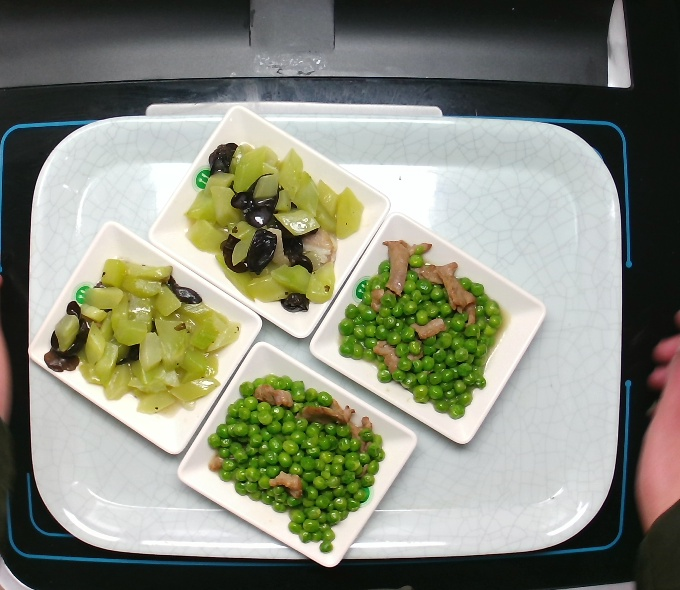wcq-CanDouRouSi: (206, 363, 394, 555), (333, 232, 506, 429)
wcq-WoSunKuai: (39, 250, 243, 420), (179, 138, 364, 315)
